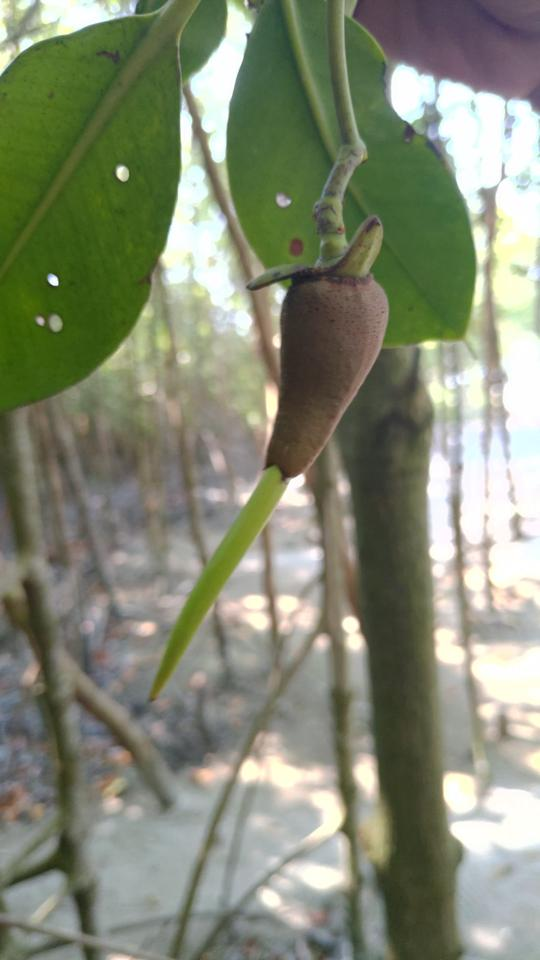mentah: (122, 206, 434, 716)
